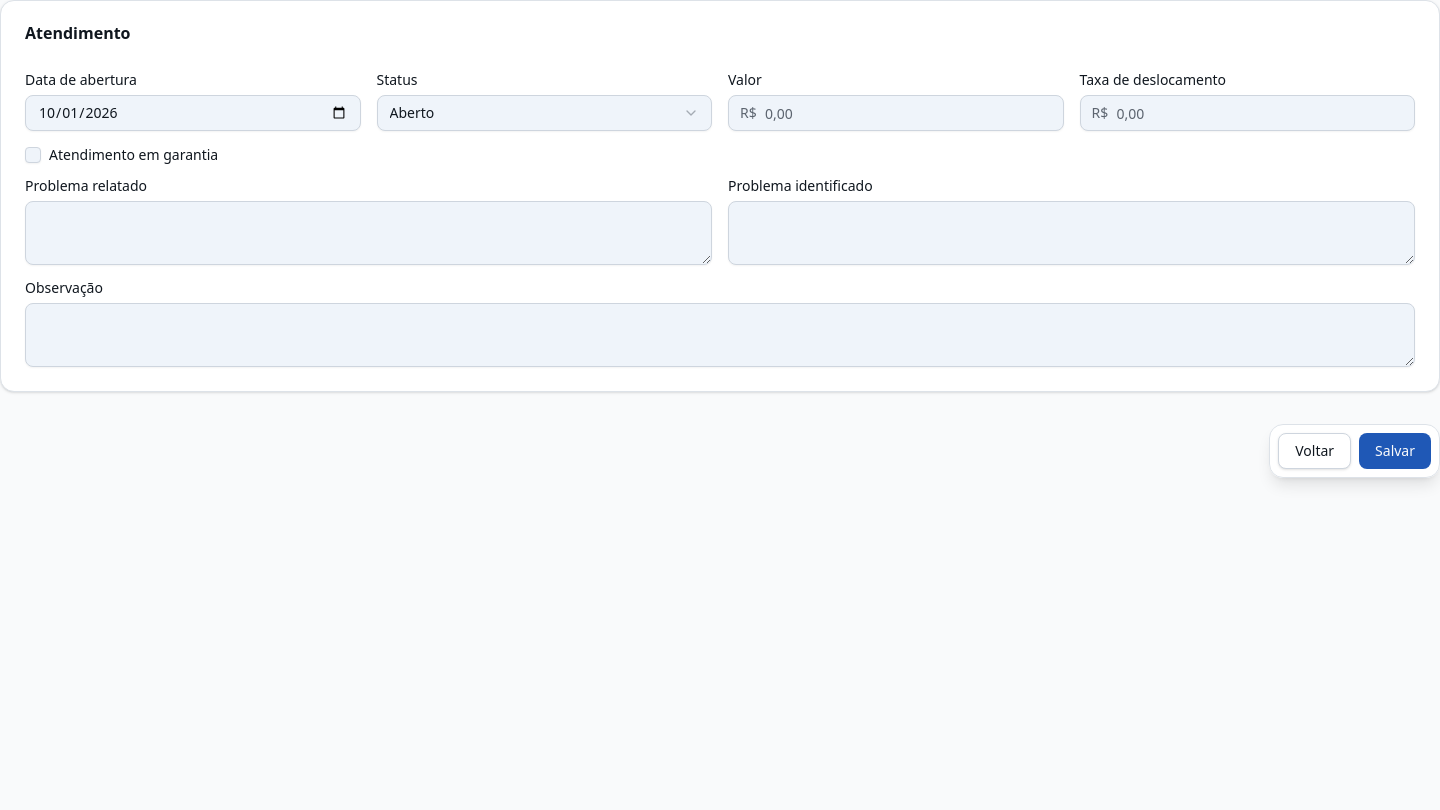
OrdemServicoFormulario: o que aparece › taxa de deslocamento faz aparecer os pagamentos mesmo com a OS aberta
In the field labelled "Taxa de deslocamento": (1247, 113) [1080, 95, 1415, 131], type "50"
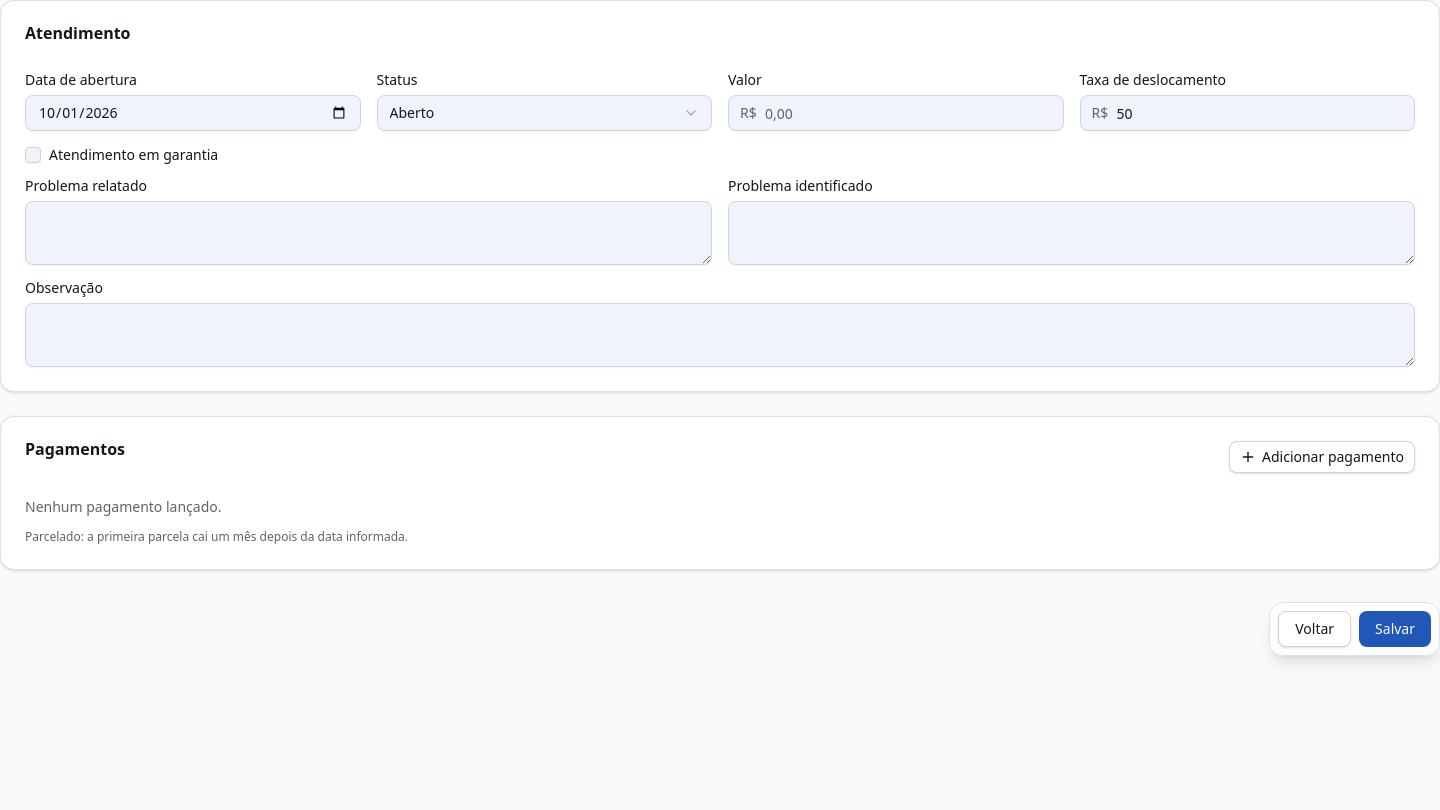
Check: the text "Pagamentos" is shown, box [25, 438, 125, 460]
